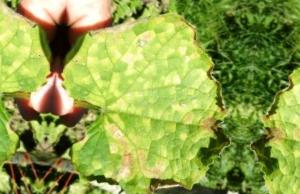Tomato leaf bacterial spot: (38, 0, 253, 194)
